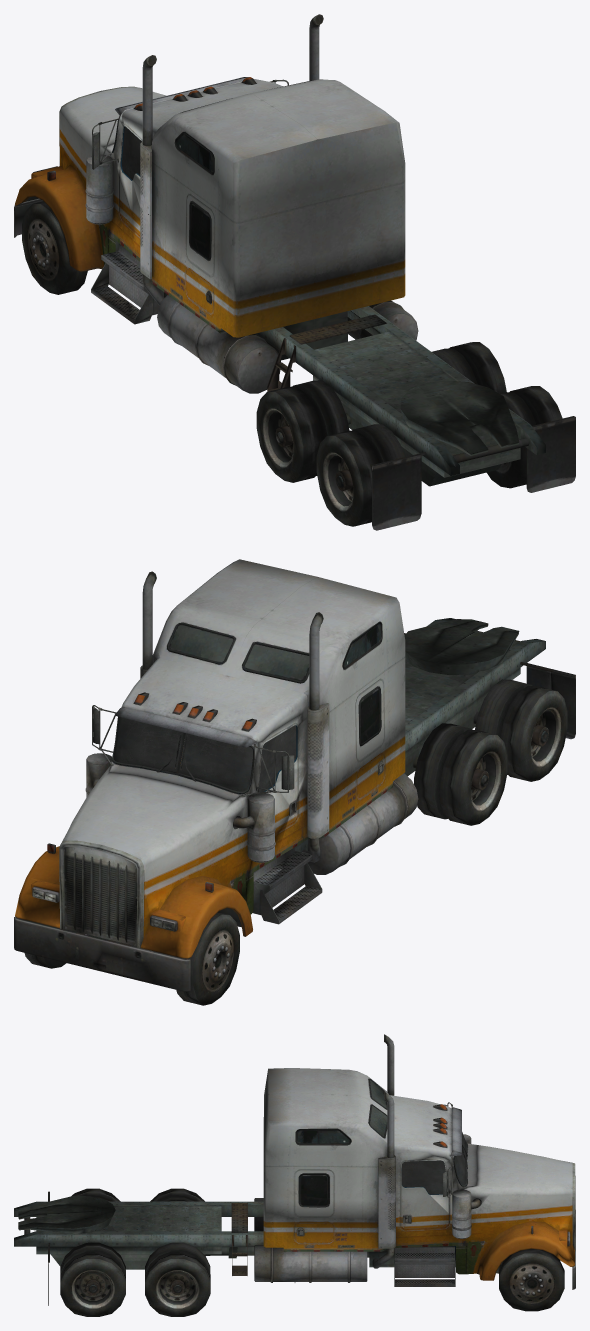
The model's file is Semi_truck.obj.
3 renders of one model, top to bottom at view 1: azimuth 30°, elevation 25°; view 2: azimuth 150°, elevation 25°; view 3: azimuth 270°, elevation 25°, orthographic. The views are drawn at different scales.
Parts seen in each view (by area): view 1: (null); view 2: (null); view 3: (null).
Part boxes in pixels (x1,y1,x2,y2): (null): [14, 14, 575, 530]; (null): [14, 559, 575, 1005]; (null): [14, 1034, 575, 1316].
Bounding box in the file's own units: 114 × 162 × 375.
Materials: 2 (2 with a texture image).
